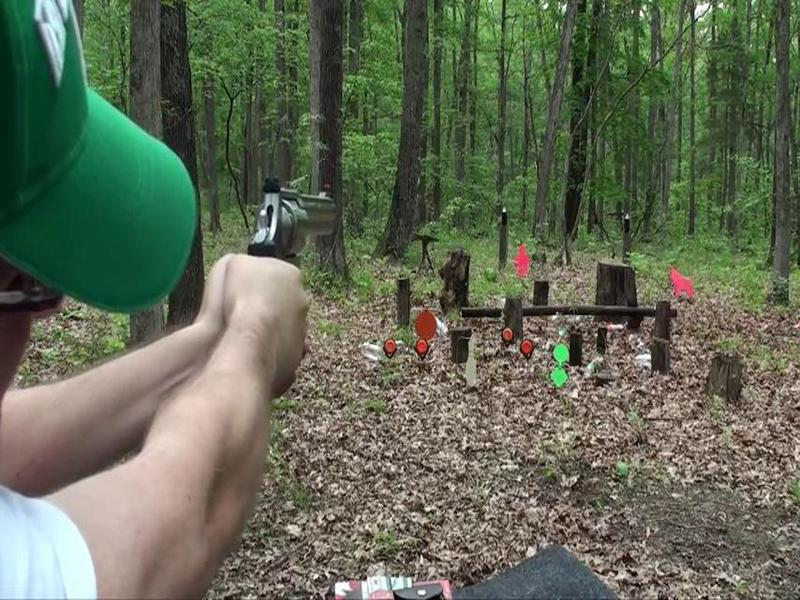Revolver: (244, 162, 357, 314)
